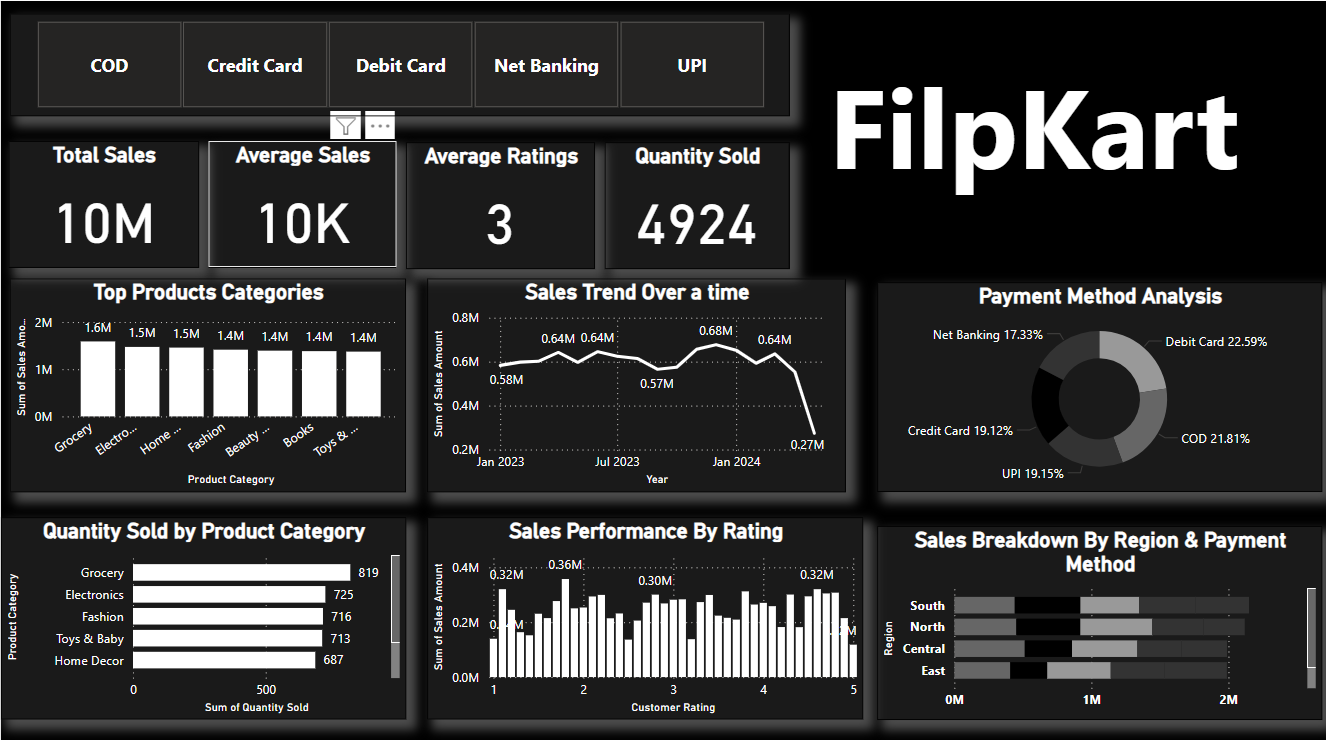

Layout of this report page (visuals, bound fields, positions):
{"tool":"powerbi","page":{"name":"Dashboard","canvas":[1280,720],"ordinal":0},"visuals":[{"type":"card","title":"Total Sales","fields":{"Values":["Sum(Sheet1.Sales Amount)"]},"box":[7.8,134.7,183.9,122.1],"z":0},{"type":"card","title":"Average Sales","fields":{"Values":["Avg(Sheet1.Sales Amount)"]},"box":[199.9,134.7,181.1,122.1],"z":1000},{"type":"card","title":"Average Ratings","fields":{"Values":["Avg(Sheet1.Customer Rating)"]},"box":[390.6,136.1,182.5,122.1],"z":2000},{"type":"card","title":"Quantity Sold","fields":{"Values":["Sum(Sheet1.Quantity Sold)"]},"box":[582.7,136.1,178.4,122.1],"z":3000},{"type":"columnChart","title":"Top Products Categories","fields":{"Category":["Sheet1.Product Category"],"Y":["Sum(Sheet1.Sales Amount)"]},"box":[8.4,267.8,382.4,206.3],"z":5000},{"type":"lineChart","title":"Sales Trend Over a time","fields":{"Category":["Sheet1.Order Date.Variation.Date Hierarchy.Year","Sheet1.Order Date.Variation.Date Hierarchy.Quarter","Sheet1.Order Date.Variation.Date Hierarchy.Month","Sheet1.Order Date.Variation.Date Hierarchy.Day"],"Y":["Sum(Sheet1.Sales Amount)"]},"box":[411.4,267.8,404.2,206.3],"z":6000},{"type":"donutChart","title":" Payment Method Analysis","fields":{"Category":["Sheet1.Payment Method"],"Y":["Sum(Sheet1.Sales Amount)"]},"box":[845.7,271.4,429.5,202.7],"z":7000},{"type":"clusteredBarChart","title":" Quantity Sold by Product Category","fields":{"Category":["Sheet1.Product Category"],"Y":["Sum(Sheet1.Quantity Sold)"]},"box":[0,498.3,390.9,195.4],"z":8000},{"type":"clusteredColumnChart","title":"Sales Performance By Rating","fields":{"Category":["Sheet1.Customer Rating"],"Y":["Sum(Sheet1.Sales Amount)"]},"box":[411.4,498.3,421,195.4],"z":9000},{"type":"barChart","title":"Sales Breakdown By Region & Payment Method","fields":{"Category":["Sheet1.Region"],"Y":["Sum(Sheet1.Sales Amount)"],"Series":["Sheet1.Payment Method"]},"box":[845.7,506.7,429.5,187],"z":10000},{"type":"slicer","fields":{"Values":["Sheet1.Payment Method"]},"box":[8.4,12.1,752.8,98.9],"z":11000},{"type":"textbox","box":[793.8,42.2,486.2,234],"z":12000}]}

Visuals, with their boxes in screenshot pixels (x1, y1, x2, y2), scaled from the page's 1280x720 canvas onto the 1326x740 screenshot:
"Total Sales" card: (left=8, top=138, right=199, bottom=264)
"Average Sales" card: (left=207, top=138, right=395, bottom=264)
"Average Ratings" card: (left=405, top=140, right=594, bottom=265)
"Quantity Sold" card: (left=604, top=140, right=788, bottom=265)
"Top Products Categories" columnChart: (left=9, top=275, right=405, bottom=487)
"Sales Trend Over a time" lineChart: (left=426, top=275, right=845, bottom=487)
" Payment Method Analysis" donutChart: (left=876, top=279, right=1321, bottom=487)
" Quantity Sold by Product Category" clusteredBarChart: (left=0, top=512, right=405, bottom=713)
"Sales Performance By Rating" clusteredColumnChart: (left=426, top=512, right=862, bottom=713)
"Sales Breakdown By Region & Payment Method" barChart: (left=876, top=521, right=1321, bottom=713)
slicer - Sheet1.Payment Method: (left=9, top=12, right=789, bottom=114)
textbox: (left=822, top=43, right=1325, bottom=284)
